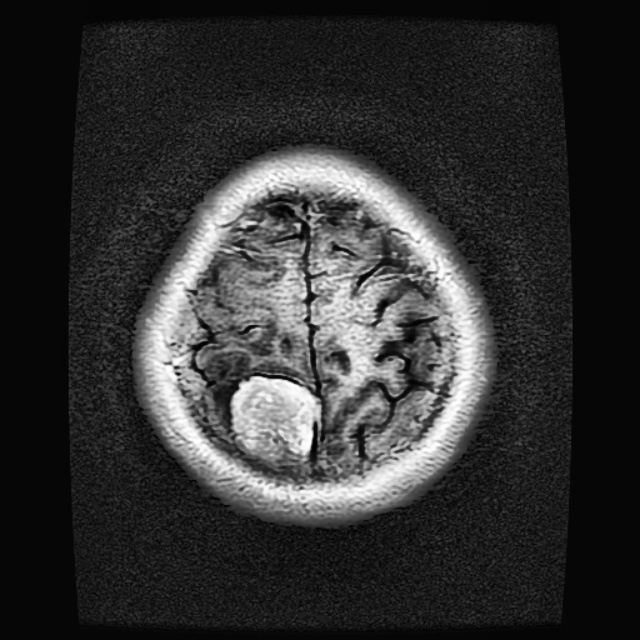Pituitary: (229, 374, 320, 464)
